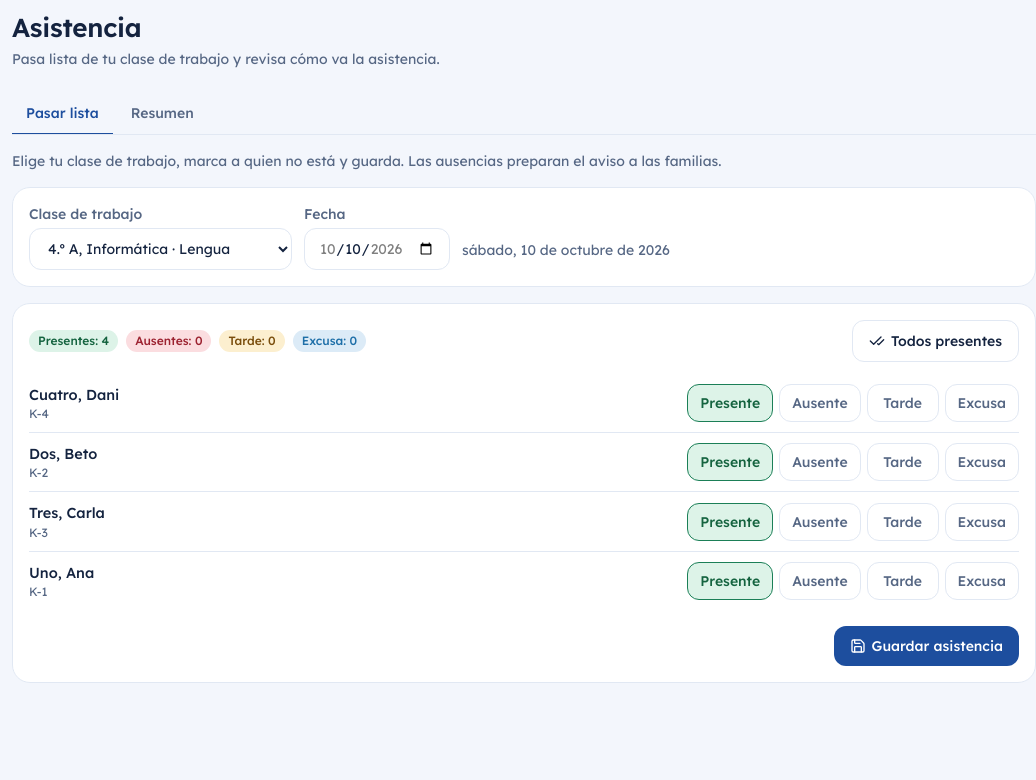
Test: Asistencia › muestra el error de la base de datos al guardar
Click the button "Guardar asistencia" at (926, 646), box [834,626,1019,666]
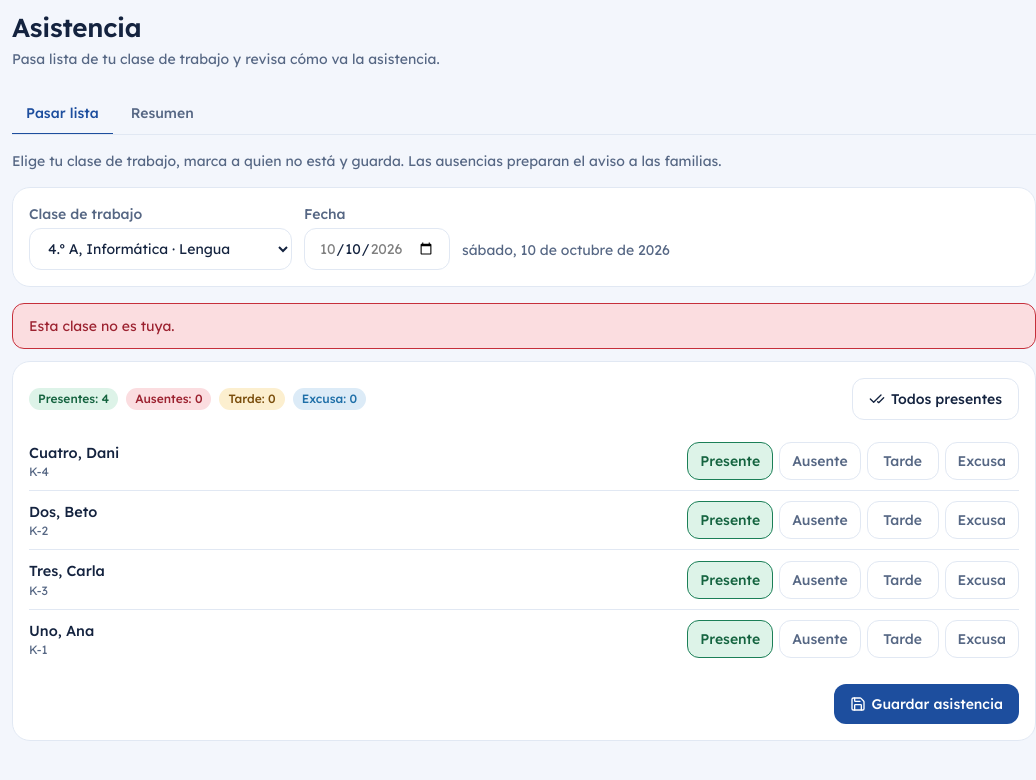
Now the text "Esta clase no es tuya." is shown, box [12,302,1035,348]
